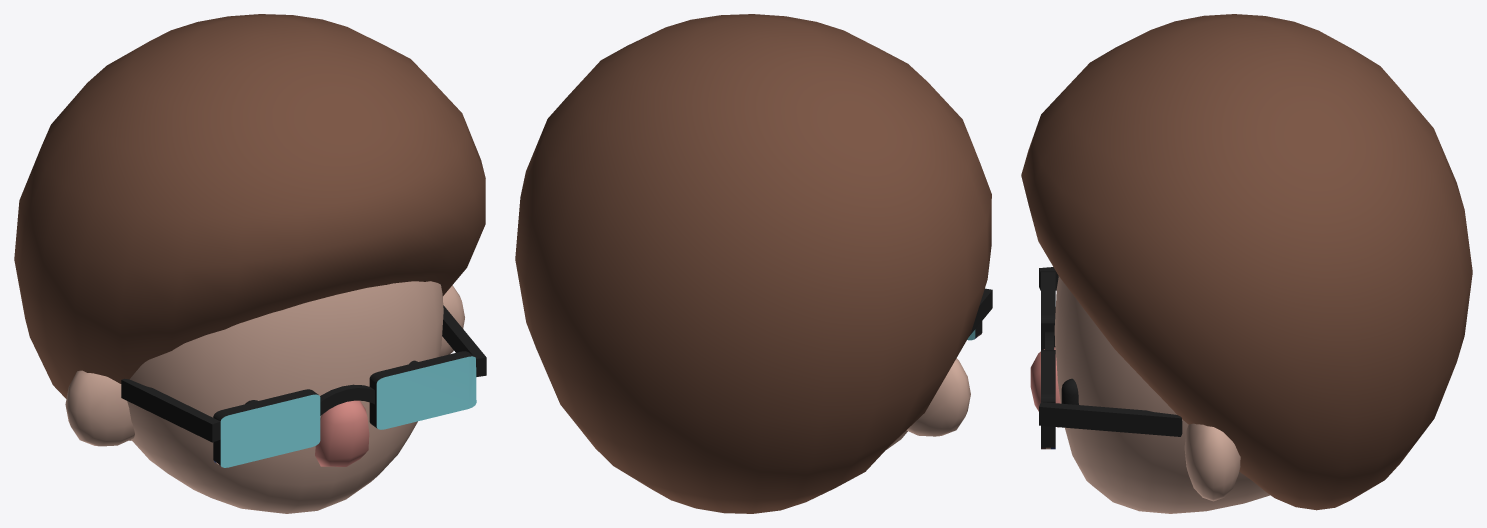
The model's file is Scout_Head_Jared.fbx.
3 renders of one model, left to right at view 1: azimuth 30°, elevation 25°; view 2: azimuth 150°, elevation 25°; view 3: azimuth 270°, elevation 25°, orthographic. The views are drawn at different scales.
Parts seen in each view (by area): view 1: Scout_Head_Jared; view 2: Scout_Head_Jared; view 3: Scout_Head_Jared.
Part boxes in pixels (x1,y1,x2,y2): Scout_Head_Jared: (14, 14, 486, 513); Scout_Head_Jared: (515, 14, 992, 513); Scout_Head_Jared: (1021, 14, 1472, 513).
Bounding box in the file's own units: 57.39 × 57.04 × 51.42.
Materials: 1 (1 with a texture image).
